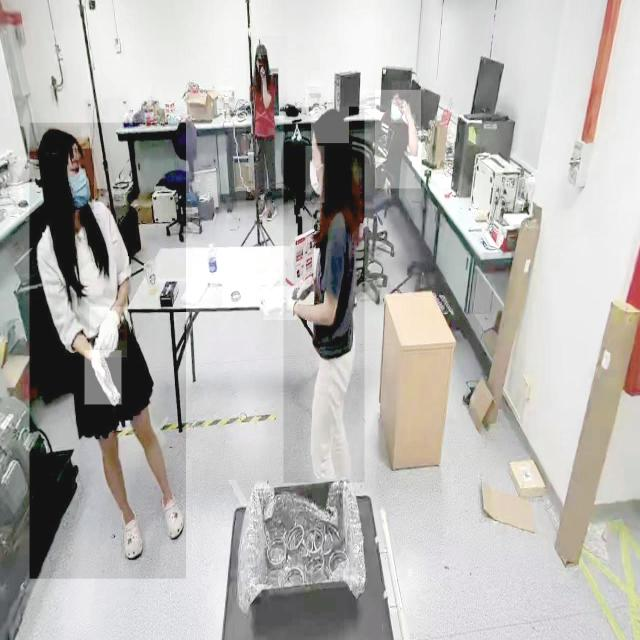face_mask: (66, 148, 94, 210), (306, 146, 324, 202), (391, 100, 405, 122)
face_nomask: (256, 58, 266, 76)
hand_glove: (84, 350, 122, 406), (89, 307, 127, 357), (264, 286, 298, 321)
hand_noglove: (402, 98, 412, 122), (259, 65, 265, 79)
head_nohelmet: (311, 107, 349, 144), (38, 126, 82, 154), (392, 81, 411, 94), (255, 44, 268, 56)
person: (30, 122, 186, 580), (283, 106, 365, 484), (246, 35, 288, 225), (375, 90, 421, 189)
shoes: (255, 194, 269, 220), (264, 200, 278, 223)
